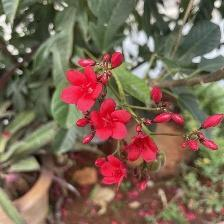jatropha: (61, 65, 105, 113), (89, 99, 133, 144), (125, 134, 161, 167)
